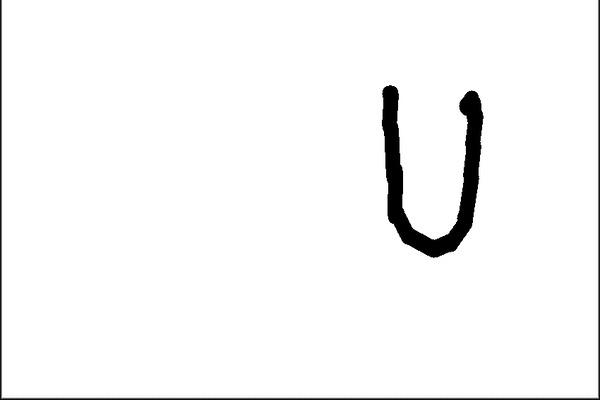U: (373, 82, 488, 257)
